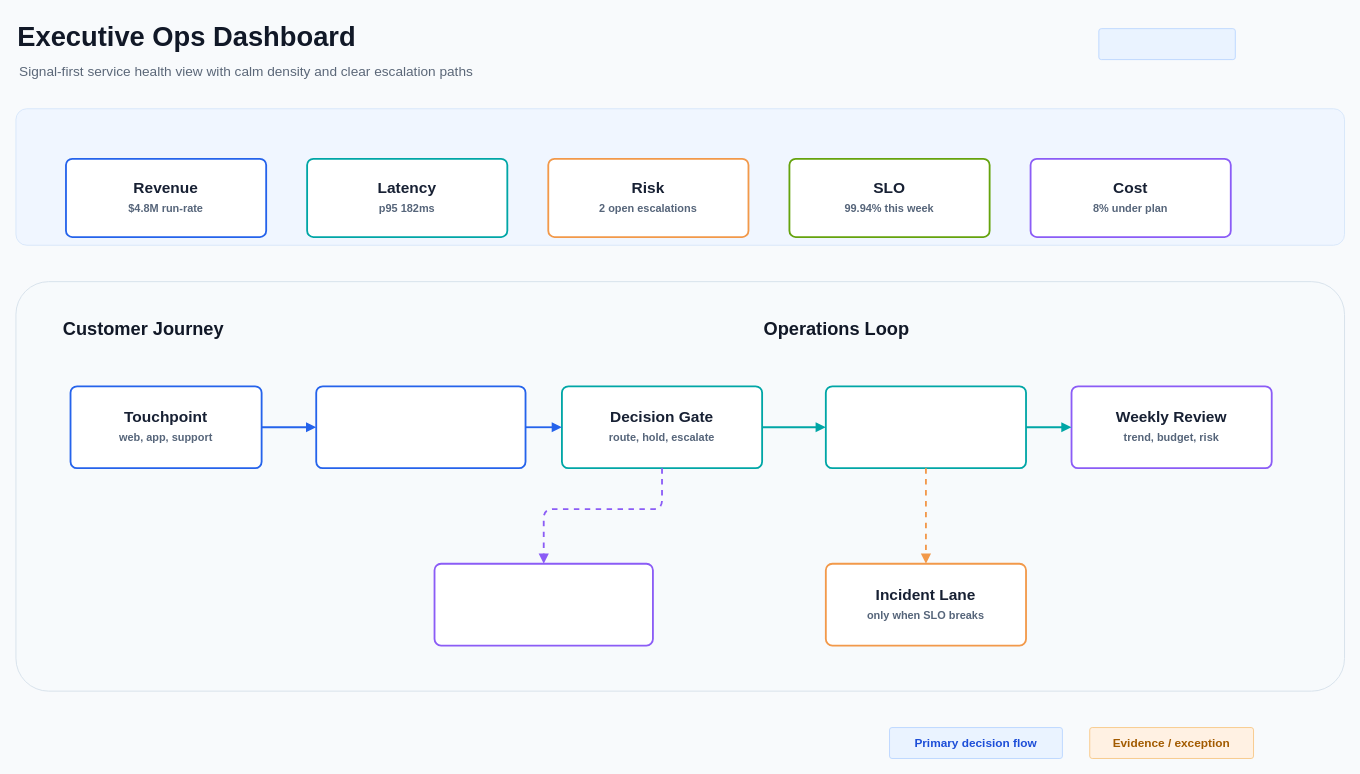
The diagram is 1360 pixels wide and 774 high, and some of its shapes have lost their labels. The box of each missing label's shape, as (x1, y1, x2, y2) in pixels:
Board-ready: (1098, 28, 1235, 60)
Evidence Store snapshots and notes: (433, 562, 653, 646)
Experience Score freshness and sentiment: (315, 385, 526, 469)
Owner Desk runbook and action: (824, 385, 1026, 469)
